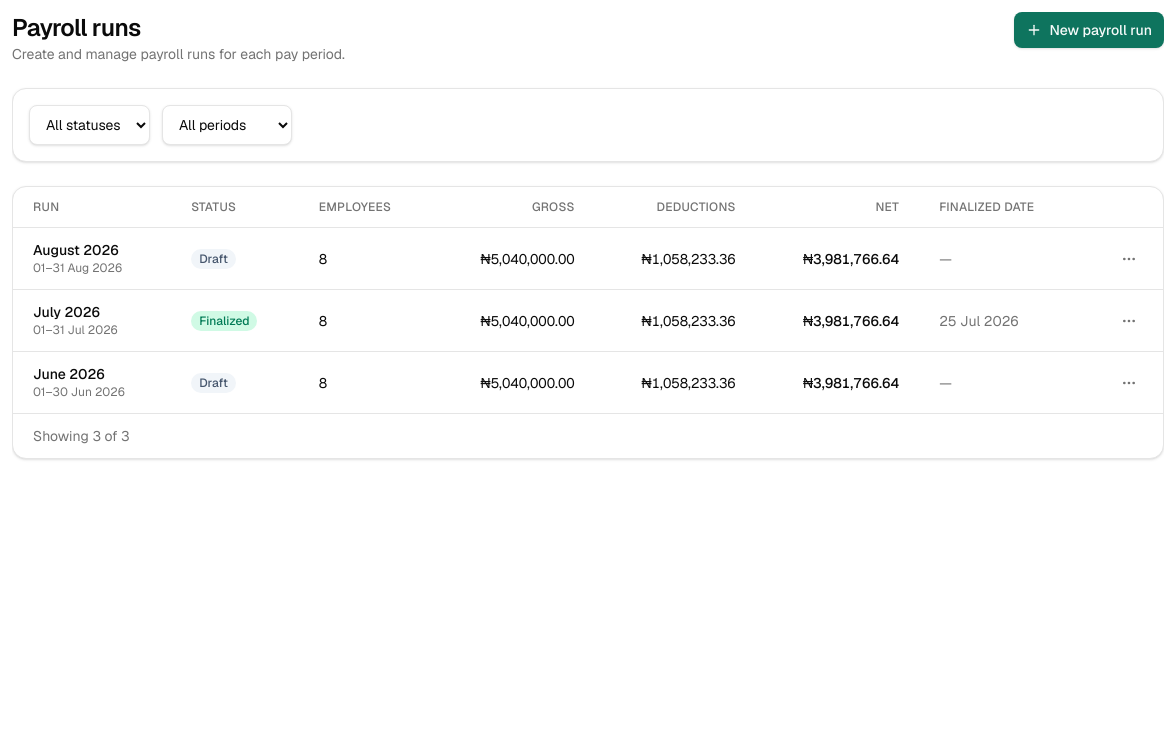
Scenario: payroll runs list › shows draft-only actions for drafts but not finalized runs
Click the button named "Actions for August 2026": (1129, 258) [1115,244,1143,272]
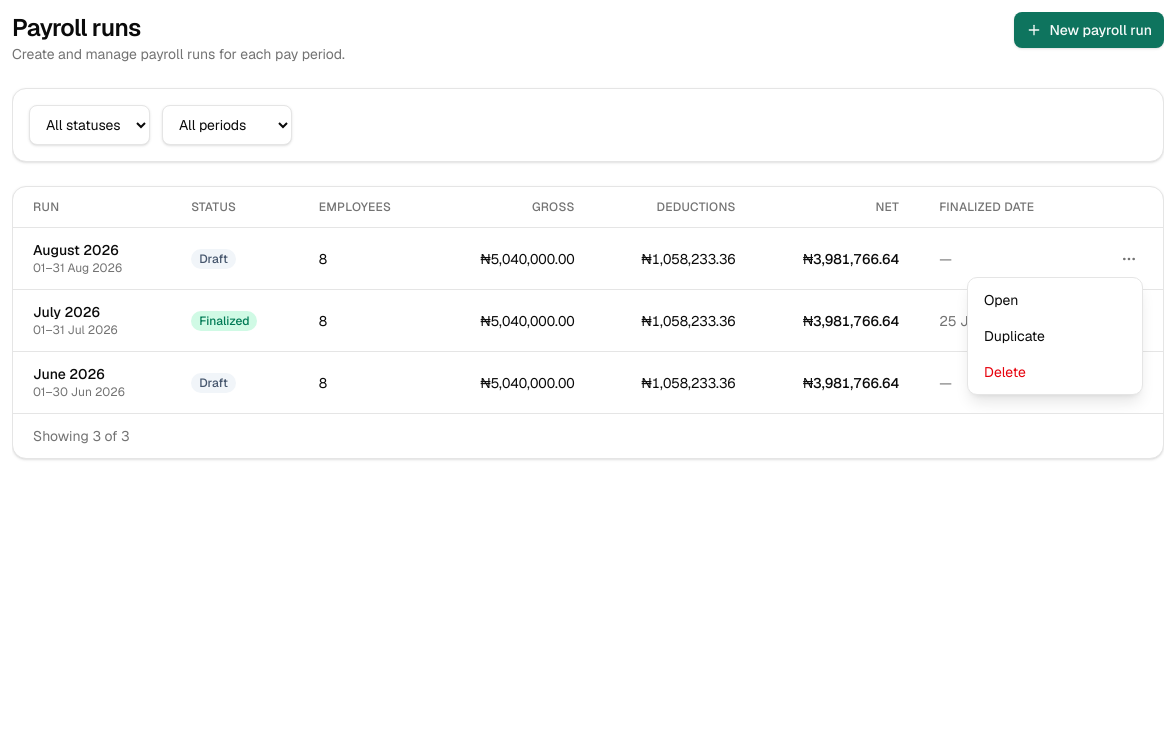
Expected: the menu item "Open" is shown, [972,282,1138,318]
Expected: the menu item "Duplicate" is shown, [972,318,1138,354]
Expected: the menu item "Delete" is shown, [972,354,1138,390]
Click the button named "Close actions menu": (588, 372) [12,12,1164,731]
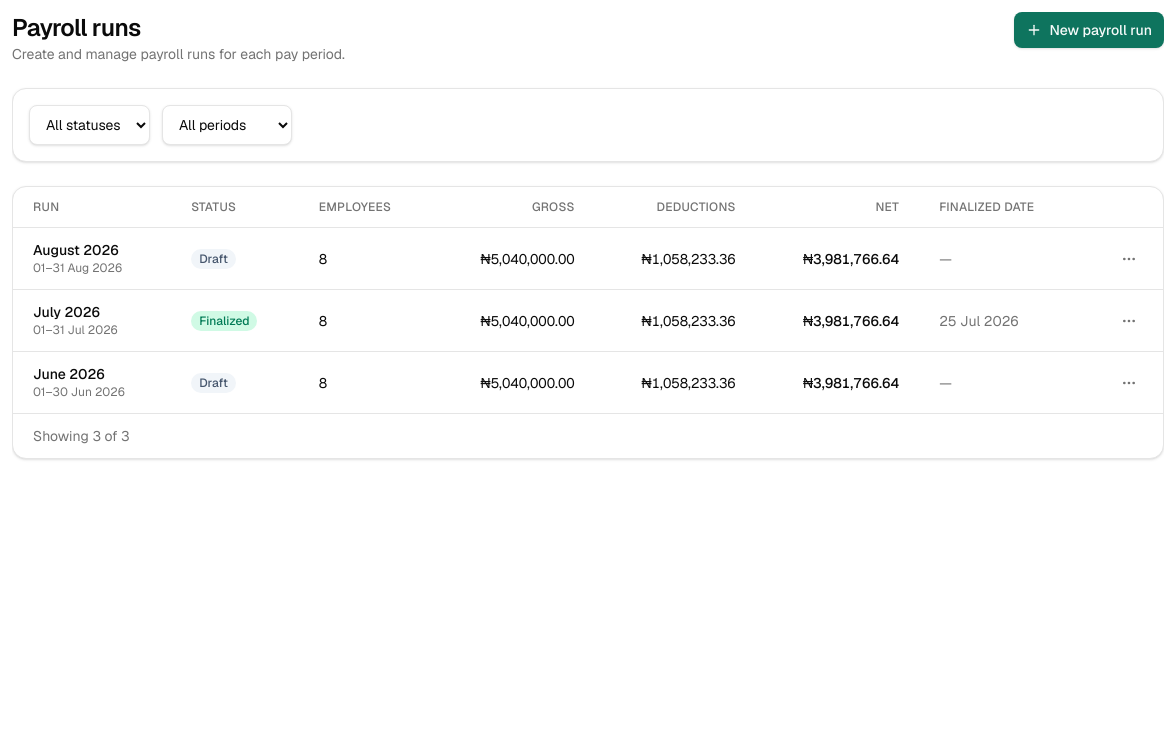
Click the button named "Actions for July 2026": (1129, 320) [1115,306,1143,334]
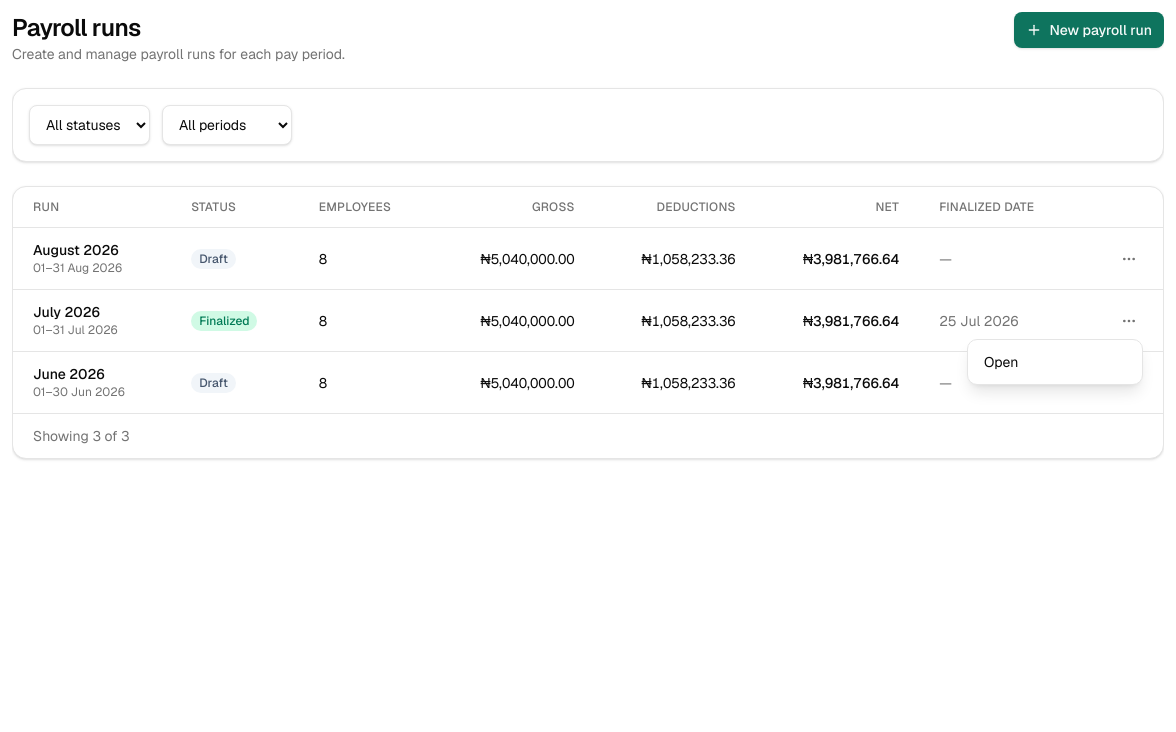
Expected: the menu item "Delete" is not shown
Expected: the menu item "Open" is shown, [972,344,1138,380]
